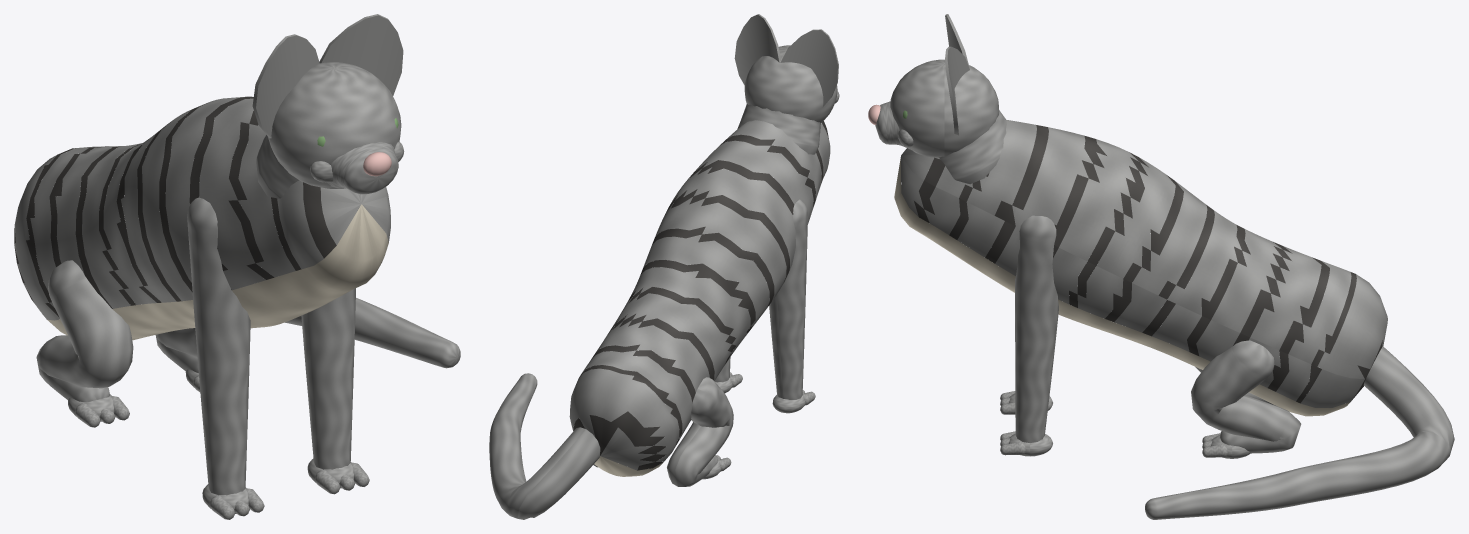
File: cat-domestic-shorthair.glb
The picture shows the model from 3 angles, left to right: view 1: azimuth 30°, elevation 25°; view 2: azimuth 150°, elevation 25°; view 3: azimuth 270°, elevation 25°; orthographic projection. The views are drawn at different scales.
Visible parts, largest first — view 1: domestic-shorthair-sitting; view 2: domestic-shorthair-sitting; view 3: domestic-shorthair-sitting.
Boxes of the visible parts, x1,y1,x2,y2 form: domestic-shorthair-sitting: [14, 14, 460, 519]; domestic-shorthair-sitting: [489, 14, 839, 519]; domestic-shorthair-sitting: [868, 14, 1454, 519].
Bounding box in the file's own units: 0.2521 × 0.359 × 0.4691.
6 materials, 3 textured.
